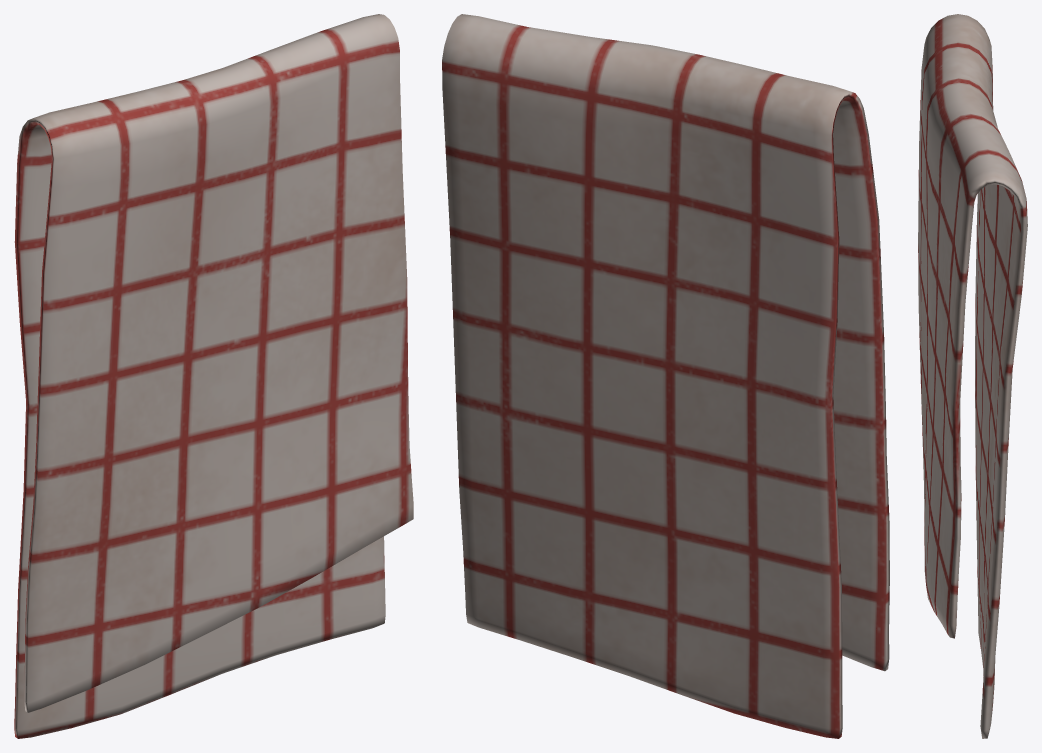
File: SM_Curtain_Towels_Towel_B.fbx
3 views of the same model, side by side, from view 1: azimuth 30°, elevation 25°; view 2: azimuth 150°, elevation 25°; view 3: azimuth 270°, elevation 25° (orthographic). The views are drawn at different scales.
Parts seen in each view (by area): view 1: SM_Curtain_Towels_Towel_B_LOD0; view 2: SM_Curtain_Towels_Towel_B_LOD0; view 3: SM_Curtain_Towels_Towel_B_LOD0.
Boxes of the visible parts, left/top/right/bottom form: SM_Curtain_Towels_Towel_B_LOD0: left=14, top=14, right=413, bottom=738; SM_Curtain_Towels_Towel_B_LOD0: left=442, top=14, right=889, bottom=738; SM_Curtain_Towels_Towel_B_LOD0: left=918, top=14, right=1027, bottom=738.
Bounding box in the file's own units: 21.19 × 5.42 × 32.09.
Materials: 1 (1 with a texture image).
